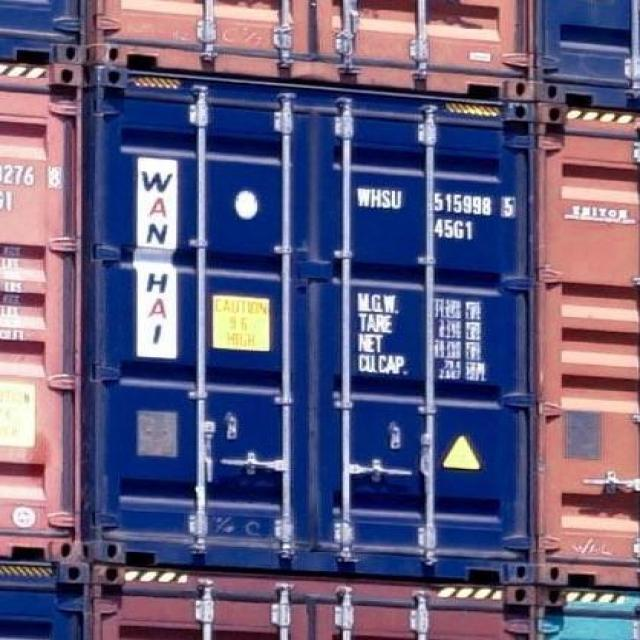ISO: (434, 218, 474, 240)
container_number: (359, 192, 517, 216)
